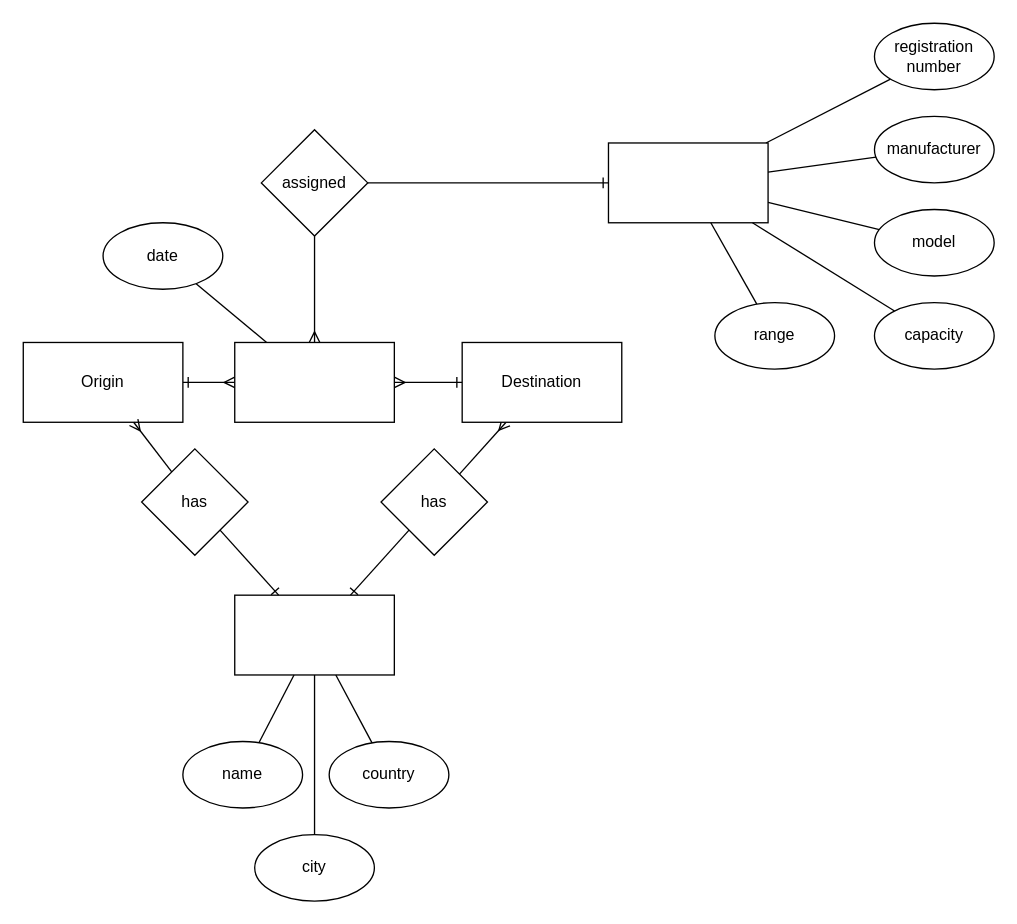
The diagram is 1017 pixels wide and 924 high, and some of its shapes have lost their labels. Here are the shapes that lost their labels. From the top down, the centre of each, then its label:
(687,182): Plane
(313,381): Flight
(313,634): Airport
